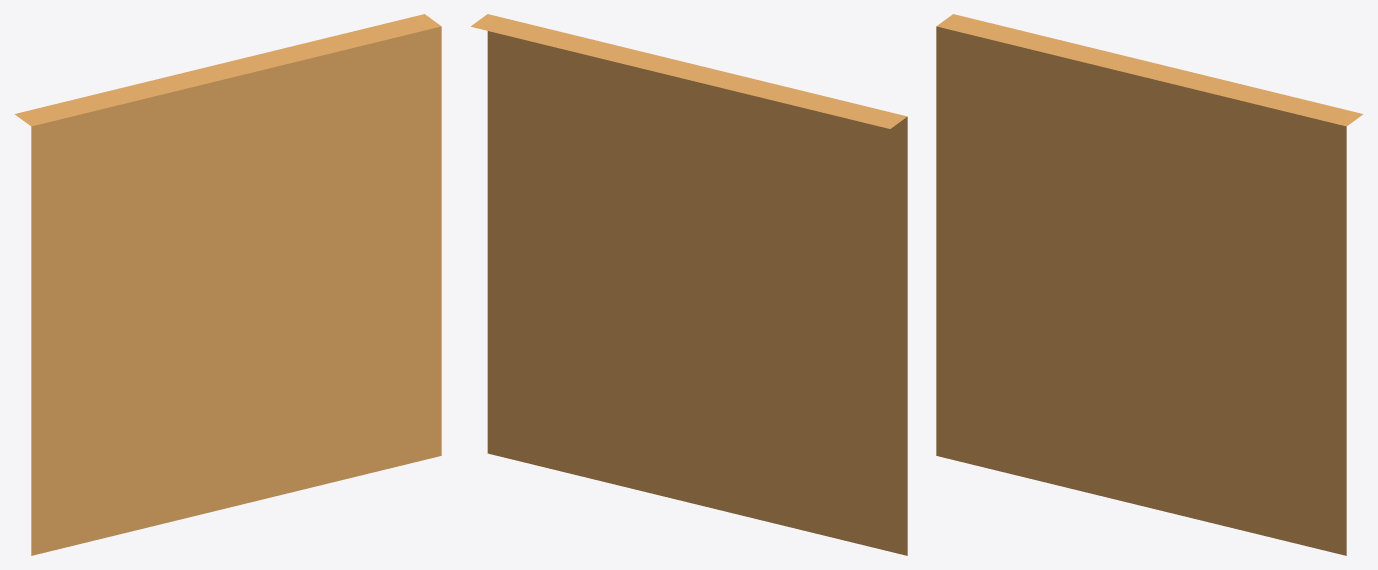
The model's file is M_Wall350Yellow100.fbx.
3 renders of one model, left to right at view 1: azimuth 30°, elevation 25°; view 2: azimuth 150°, elevation 25°; view 3: azimuth 330°, elevation 25°, orthographic. The views are drawn at different scales.
Visible parts, largest first — view 1: M_Wall350Green30; view 2: M_Wall350Green30; view 3: M_Wall350Green30.
Part boxes in pixels (x1,y1,x2,y2): M_Wall350Green30: (14,14,441,555); M_Wall350Green30: (471,14,907,555); M_Wall350Green30: (936,14,1363,555).
Size of the model in its own units: 350 by 25 by 350.
